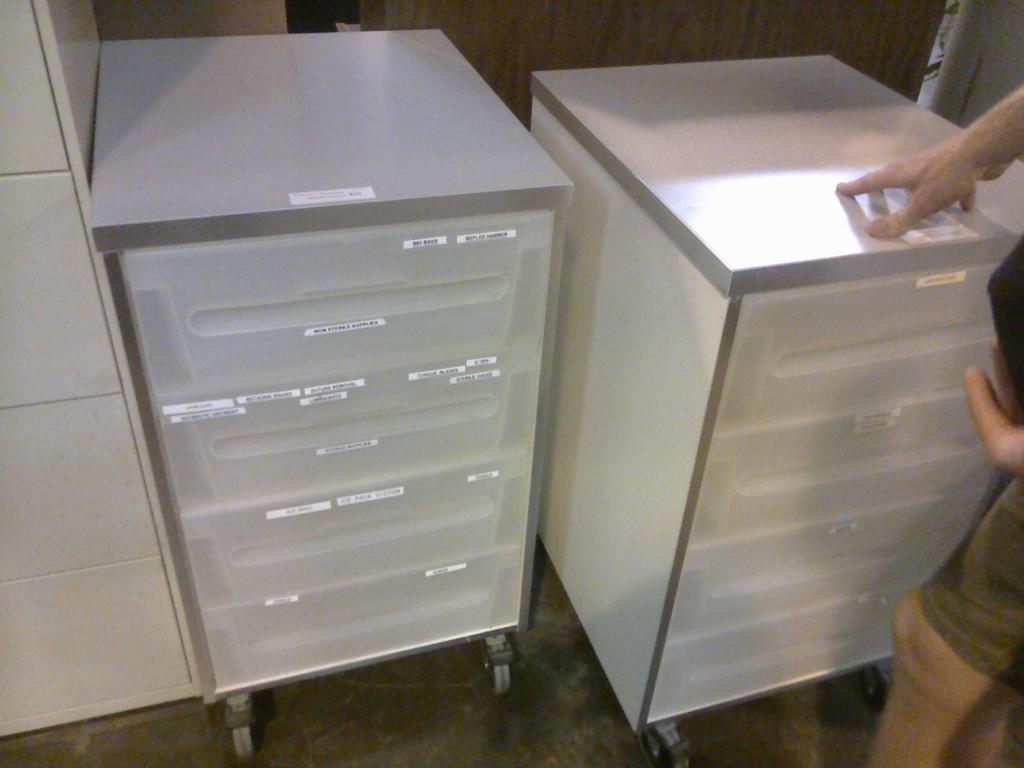Luggage-and-bags: (85, 24, 574, 753)
